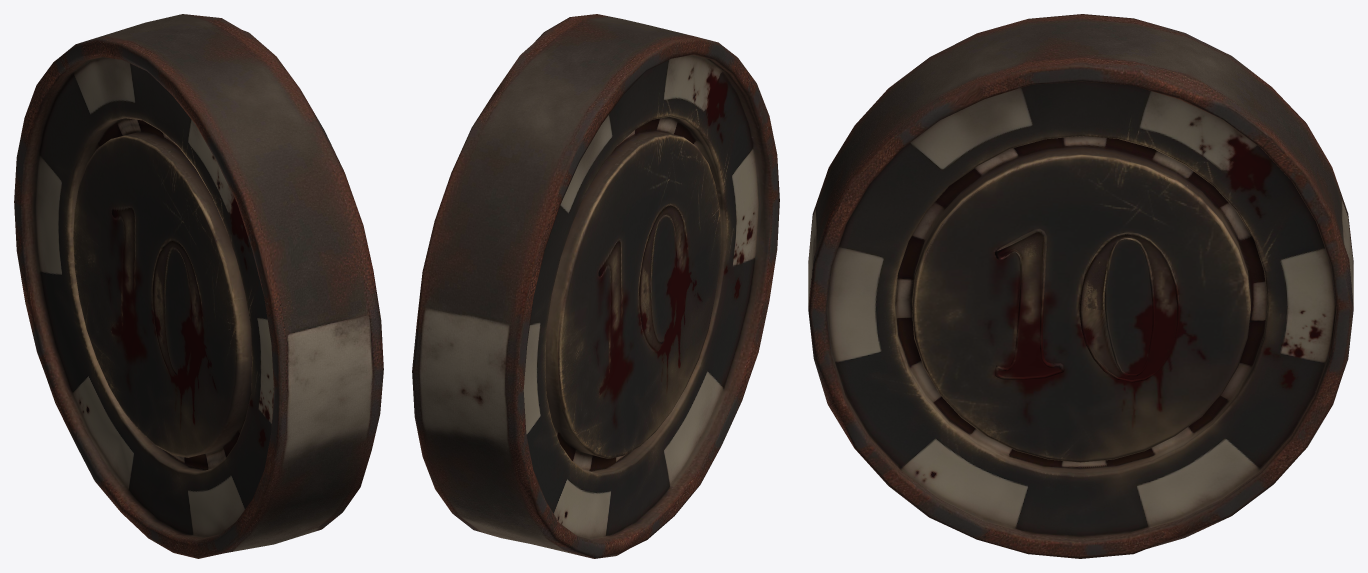
The picture shows the model from 3 angles, left to right: view 1: azimuth 30°, elevation 25°; view 2: azimuth 150°, elevation 25°; view 3: azimuth 270°, elevation 25°; orthographic projection. The views are drawn at different scales.
Visible parts, largest first — view 1: tripo_node_911fa19b; view 2: tripo_node_911fa19b; view 3: tripo_node_911fa19b.
Part boxes in pixels (left/top/right/bottom): tripo_node_911fa19b: left=14, top=14, right=383, bottom=558; tripo_node_911fa19b: left=412, top=14, right=779, bottom=558; tripo_node_911fa19b: left=808, top=14, right=1353, bottom=558.
Bounding box in the file's own units: 0.2324 × 0.998 × 0.998.
Materials: 1 (1 with a texture image).
